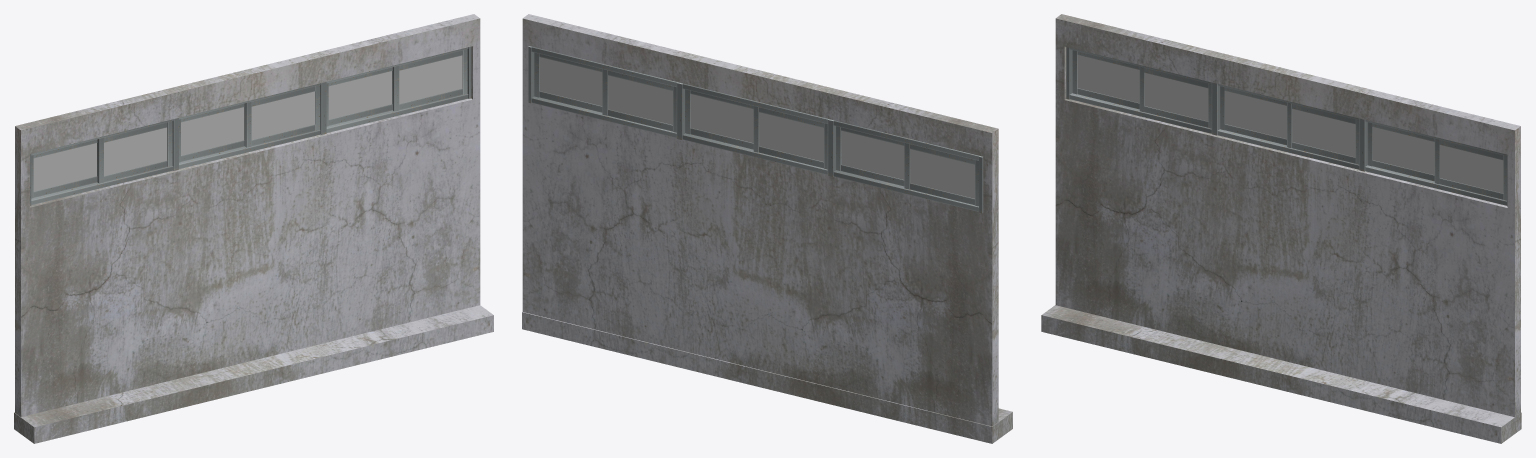
The model's file is shop_f_null06b.fbx.
3 views of the same model, side by side, from view 1: azimuth 30°, elevation 25°; view 2: azimuth 150°, elevation 25°; view 3: azimuth 330°, elevation 25° (orthographic). The views are drawn at different scales.
Visible parts, largest first — view 1: shop_f_null06b; view 2: shop_f_null06b; view 3: shop_f_null06b.
Boxes of the visible parts, x1=… form: shop_f_null06b: x1=14, y1=14, x2=493, y2=443; shop_f_null06b: x1=522, y1=14, x2=1012, y2=443; shop_f_null06b: x1=1041, y1=14, x2=1521, y2=443.
Bounding box in the file's own units: 5.4 × 3.41 × 0.4234.
